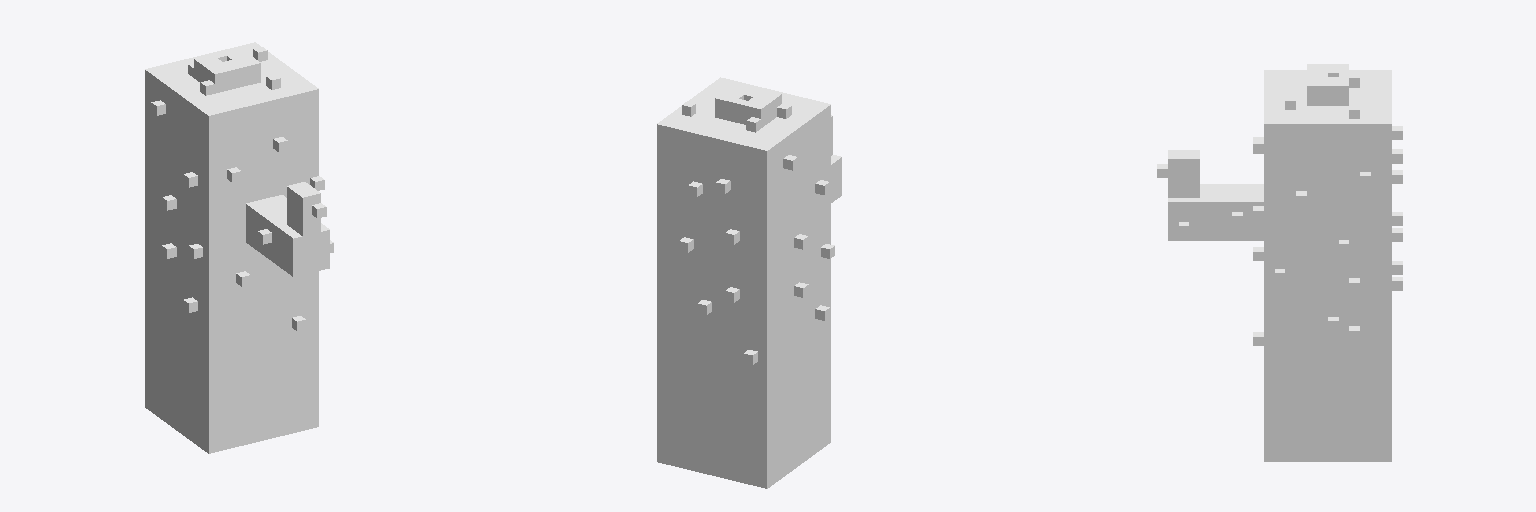
Rendered from Catus_Dark.obj.
The picture shows the model from 3 angles: view 1: azimuth 30°, elevation 25°; view 2: azimuth 150°, elevation 25°; view 3: azimuth 270°, elevation 25°; orthographic projection.
Visible parts, largest first — view 1: object 1; view 2: object 1; view 3: object 1.
Part boxes in pixels (x1,y1,x2,y2): object 1: (145, 42, 333, 453); object 1: (657, 77, 841, 488); object 1: (1157, 64, 1402, 461).
Size of the model in its own units: 1.4 by 3.7 by 2.3.